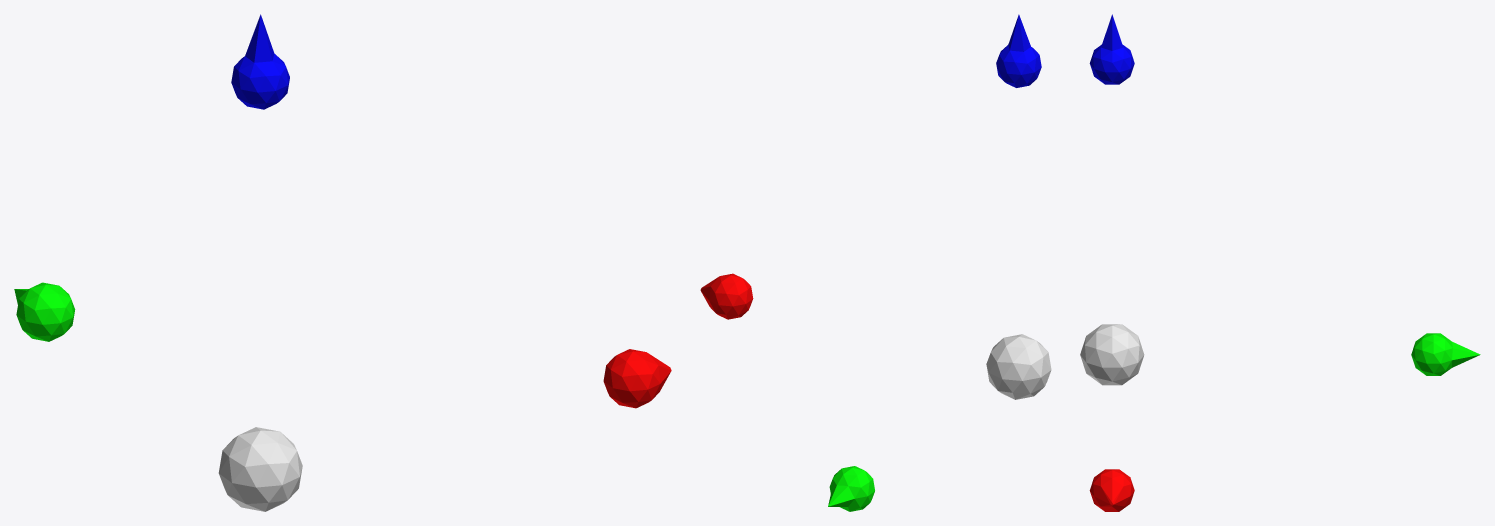
The model's file is axisY.glb.
3 views of the same model, side by side, from view 1: azimuth 30°, elevation 25°; view 2: azimuth 150°, elevation 25°; view 3: azimuth 270°, elevation 25° (orthographic). The views are drawn at different scales.
Visible parts, largest first — view 1: center; view 2: center; view 3: center.
Boxes of the visible parts, x1,y1,x2,y2 form: center: (14, 14, 671, 511); center: (700, 14, 1051, 511); center: (1080, 14, 1480, 511).
Bounding box in the file's own units: 2.39 × 2.54 × 2.49.
